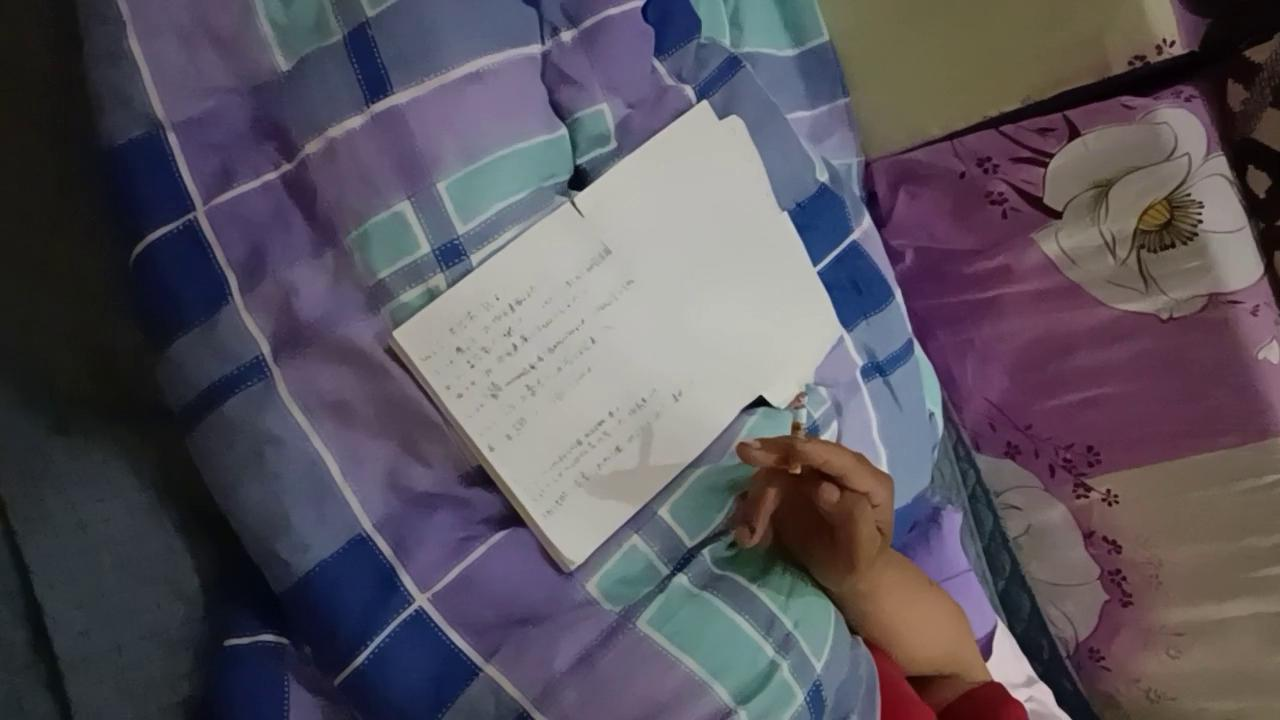smoke: (788, 392, 808, 475)
